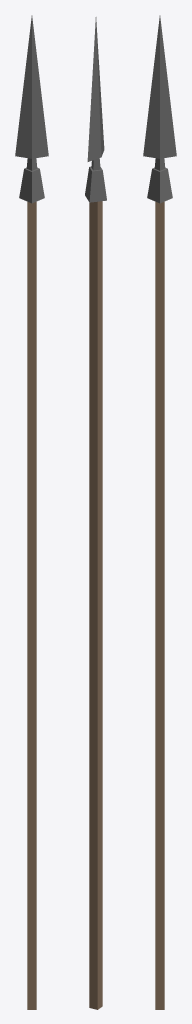
The model's file is Spear_01.fbx.
The picture shows the model from 3 angles, left to right: view 1: azimuth 90°, elevation 25°; view 2: azimuth 150°, elevation 25°; view 3: azimuth 270°, elevation 25°; orthographic projection.
Visible parts, largest first — view 1: pCylinder294; view 2: pCylinder294; view 3: pCylinder294.
Part boxes in pixels (x1,y1,x2,y2): pCylinder294: (15, 15, 48, 1009); pCylinder294: (85, 17, 106, 1009); pCylinder294: (143, 15, 176, 1009).
Size of the model in its own units: 0.0879 by 3.74 by 0.115.
